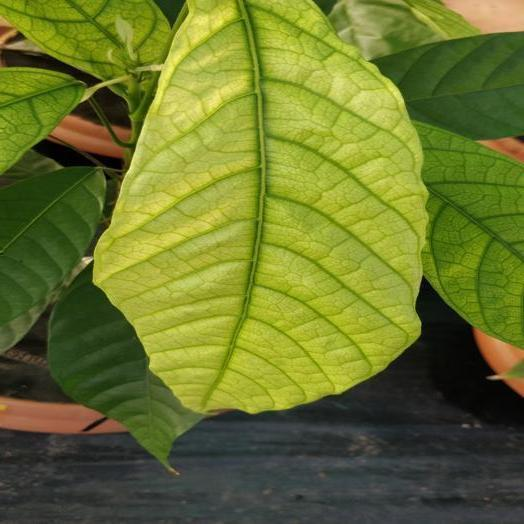Healthy Leaf: (48, 264, 203, 470), (0, 167, 105, 349), (372, 32, 523, 139)
Iron: (95, 0, 426, 412), (414, 123, 523, 346), (0, 0, 169, 87), (0, 67, 84, 173)
